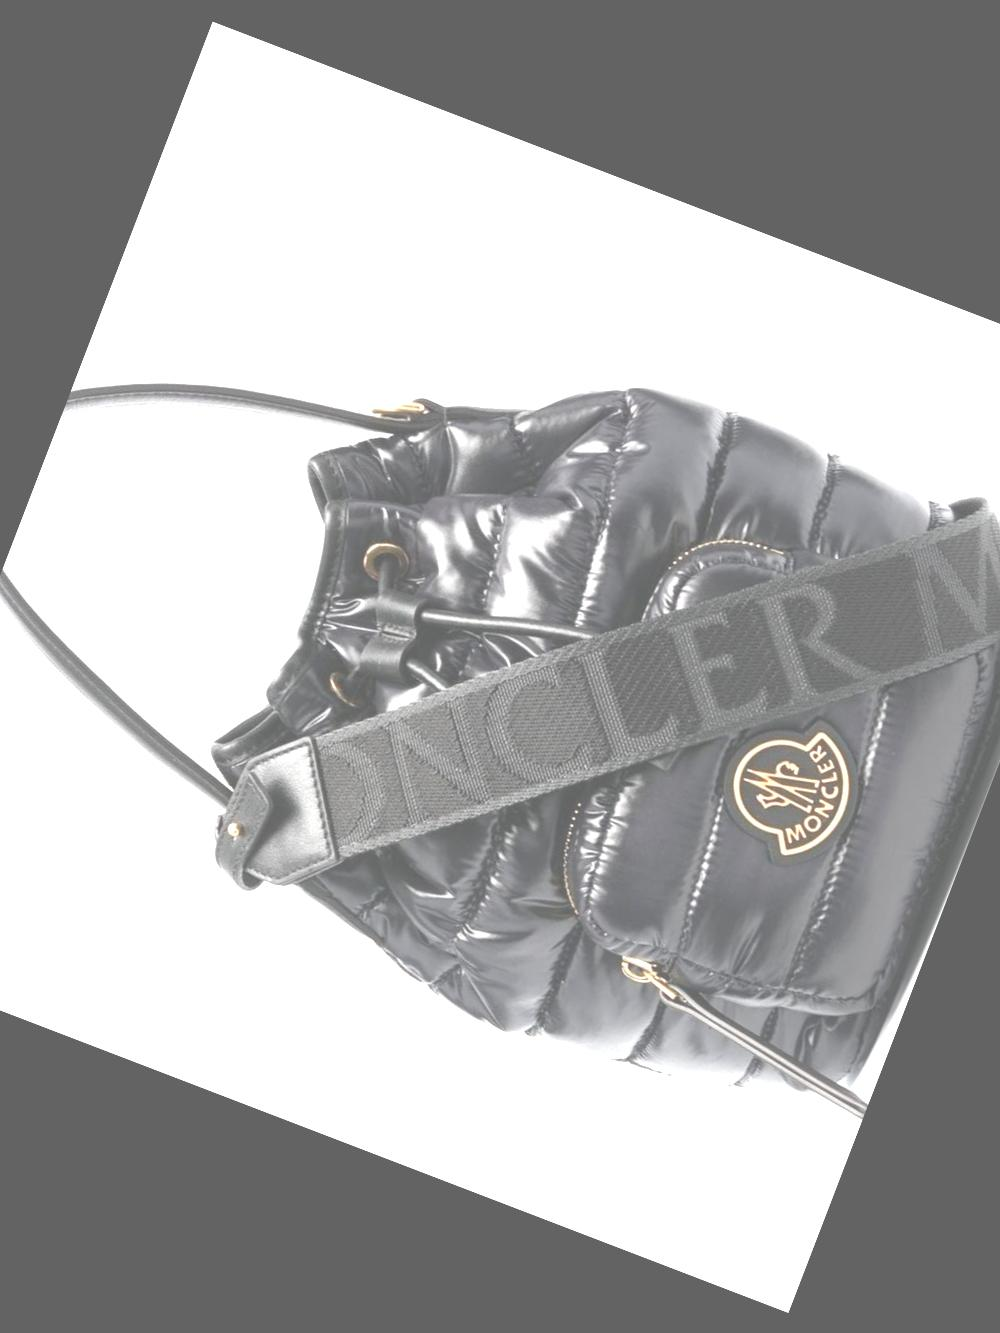MONCLER: (696, 690, 881, 886)
